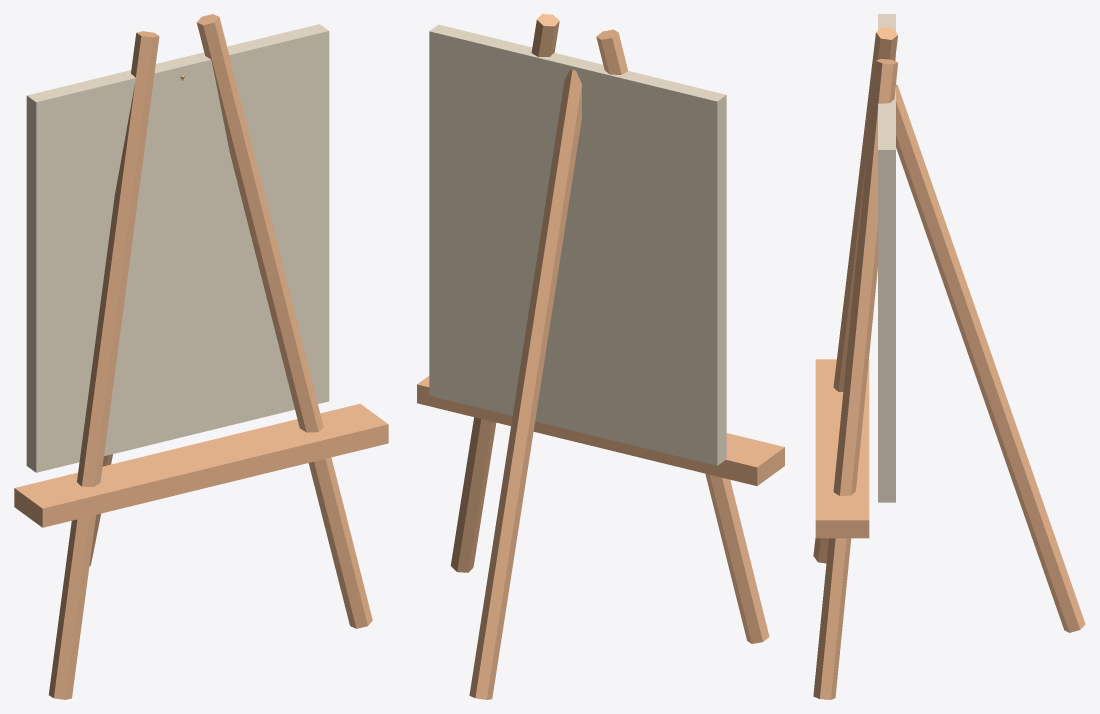
3 renders of one model, left to right at view 1: azimuth 30°, elevation 25°; view 2: azimuth 150°, elevation 25°; view 3: azimuth 270°, elevation 25°, orthographic. The views are drawn at different scales.
Visible parts, largest first — view 1: Canvas, Canvas rest, Side, Side.001; view 2: Canvas, Rear leg, Canvas rest, Side, Side.001; view 3: Rear leg, Side.001, Canvas, Canvas rest, Side.
Boxes of the visible parts, x1,y1,x2,y2 form: Canvas: [26, 24, 329, 472]; Canvas rest: [14, 403, 388, 527]; Side: [48, 31, 159, 699]; Side.001: [196, 14, 372, 628]; Canvas: [429, 24, 726, 465]; Rear leg: [469, 69, 581, 699]; Canvas rest: [417, 376, 784, 485]; Side: [596, 29, 769, 643]; Side.001: [450, 14, 559, 572]; Rear leg: [896, 84, 1085, 632]; Side.001: [813, 59, 897, 699]; Canvas: [878, 14, 895, 502]; Canvas rest: [815, 359, 869, 538]; Side: [813, 27, 897, 563].
Size of the model in its own units: 85 by 144 by 60.86.
